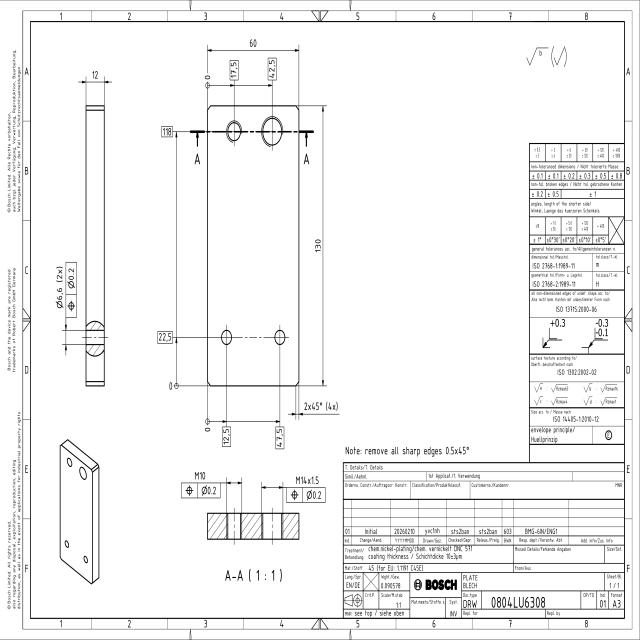dimension: (303, 399, 339, 412), (55, 264, 64, 310), (275, 425, 285, 450), (267, 57, 277, 81), (295, 475, 319, 485), (229, 59, 239, 81), (157, 331, 173, 344), (222, 426, 231, 448), (161, 125, 173, 137), (314, 237, 322, 254), (194, 471, 206, 482), (90, 68, 100, 81), (249, 36, 258, 48)
